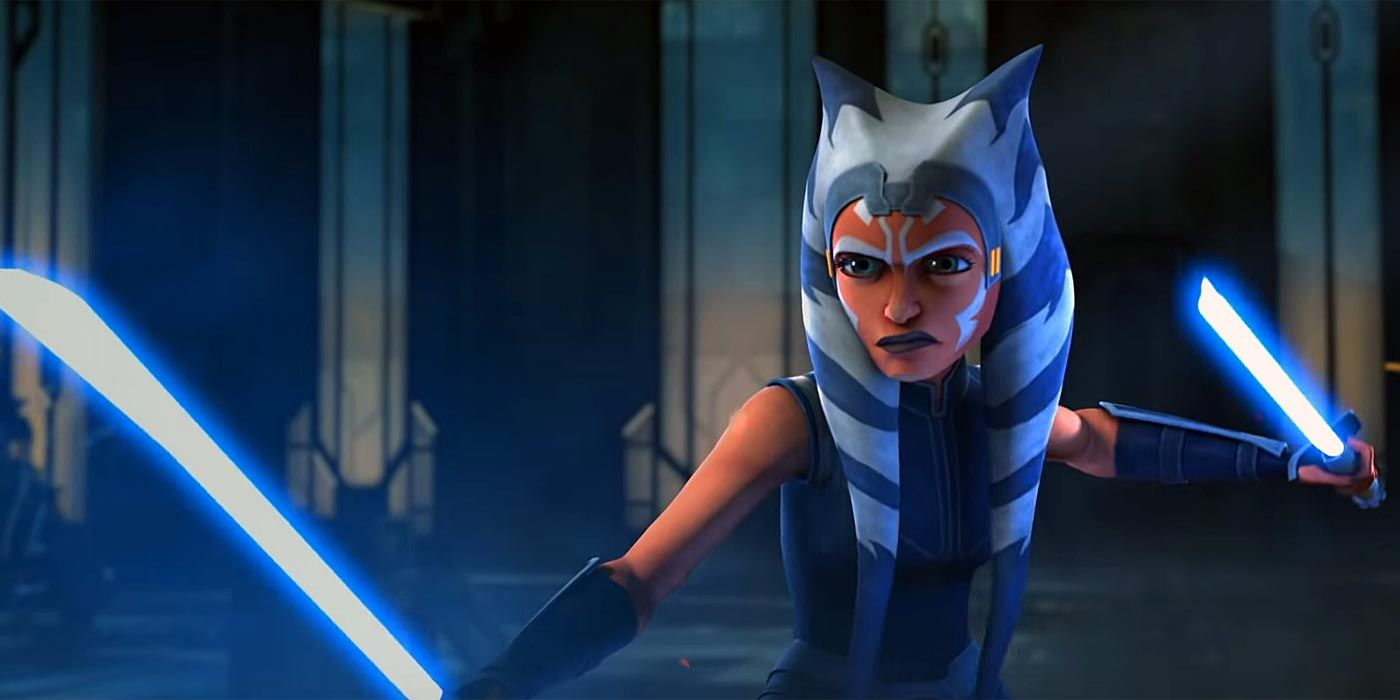lightsaber: (1, 230, 466, 700), (1168, 209, 1380, 551)
